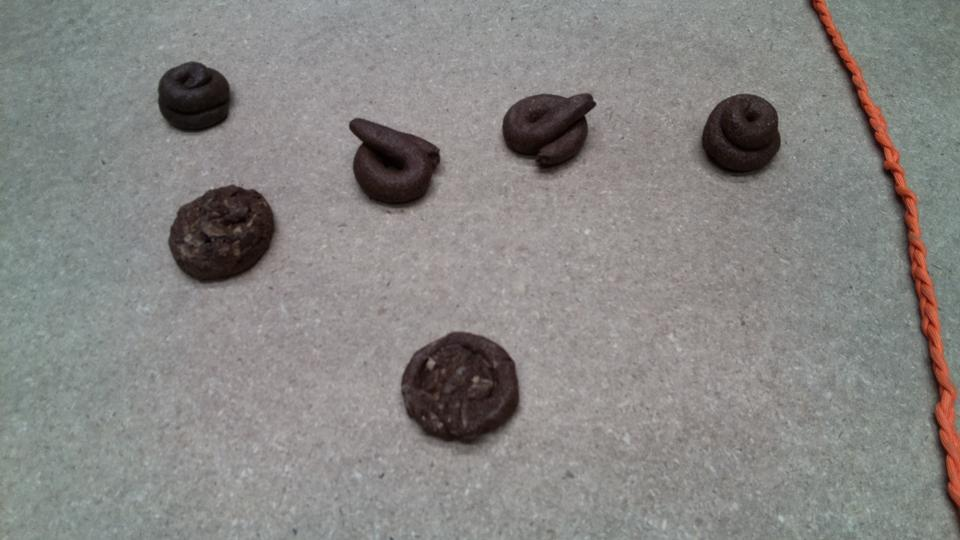poop: (397, 326, 523, 449), (166, 180, 279, 285), (347, 115, 445, 210), (500, 85, 601, 174), (698, 90, 783, 182), (156, 59, 234, 135)
rope: (810, 1, 960, 509)
